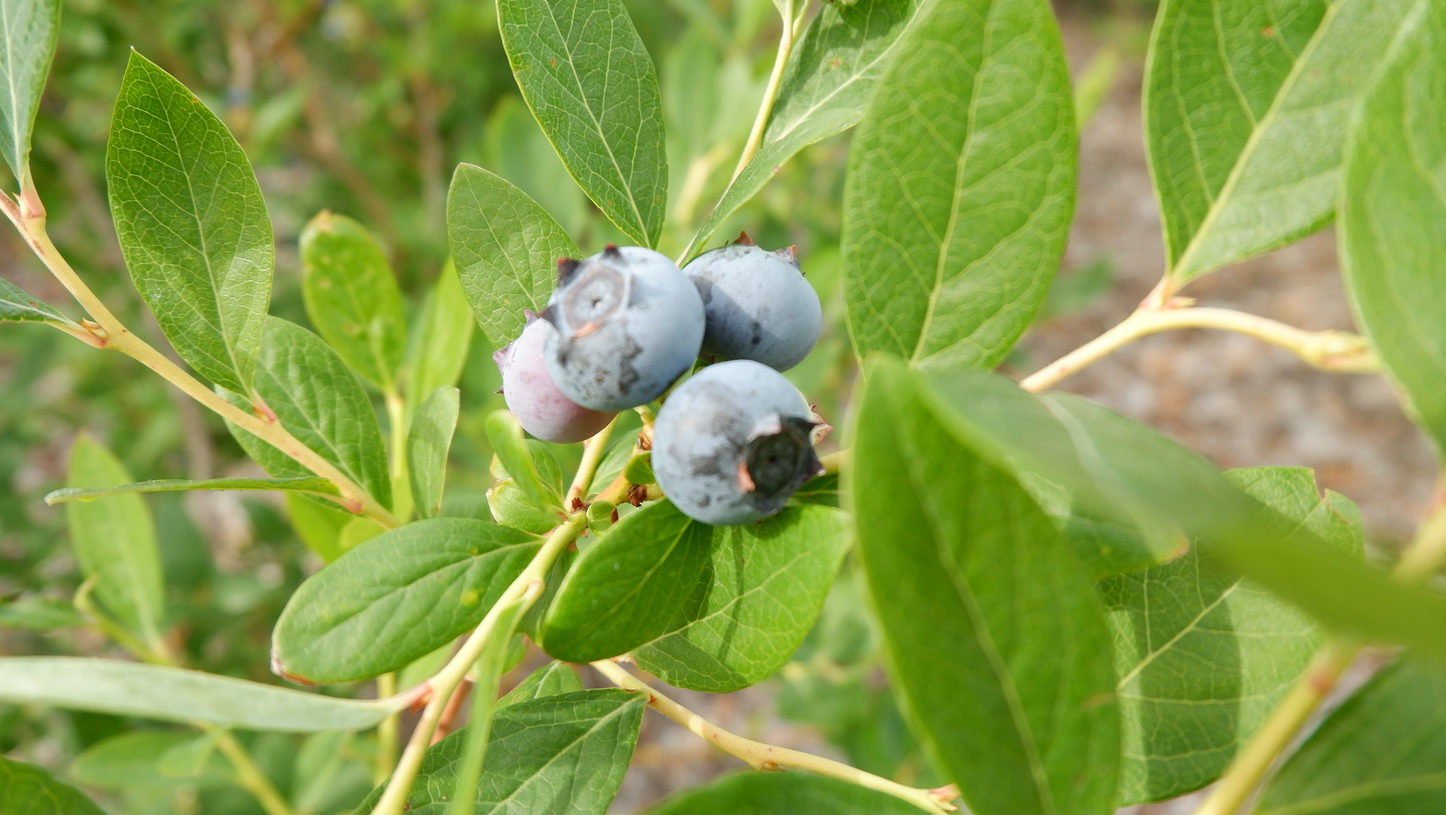Immature: (651, 358, 833, 527), (538, 243, 706, 410), (681, 230, 823, 375), (492, 307, 623, 445)
